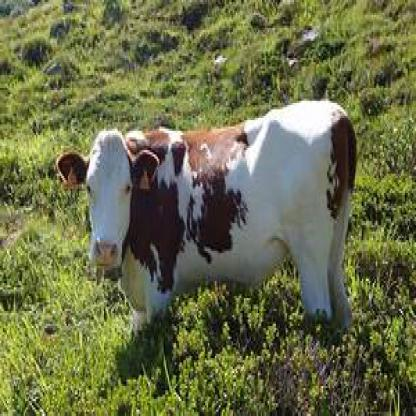cow: (60, 96, 352, 376)
